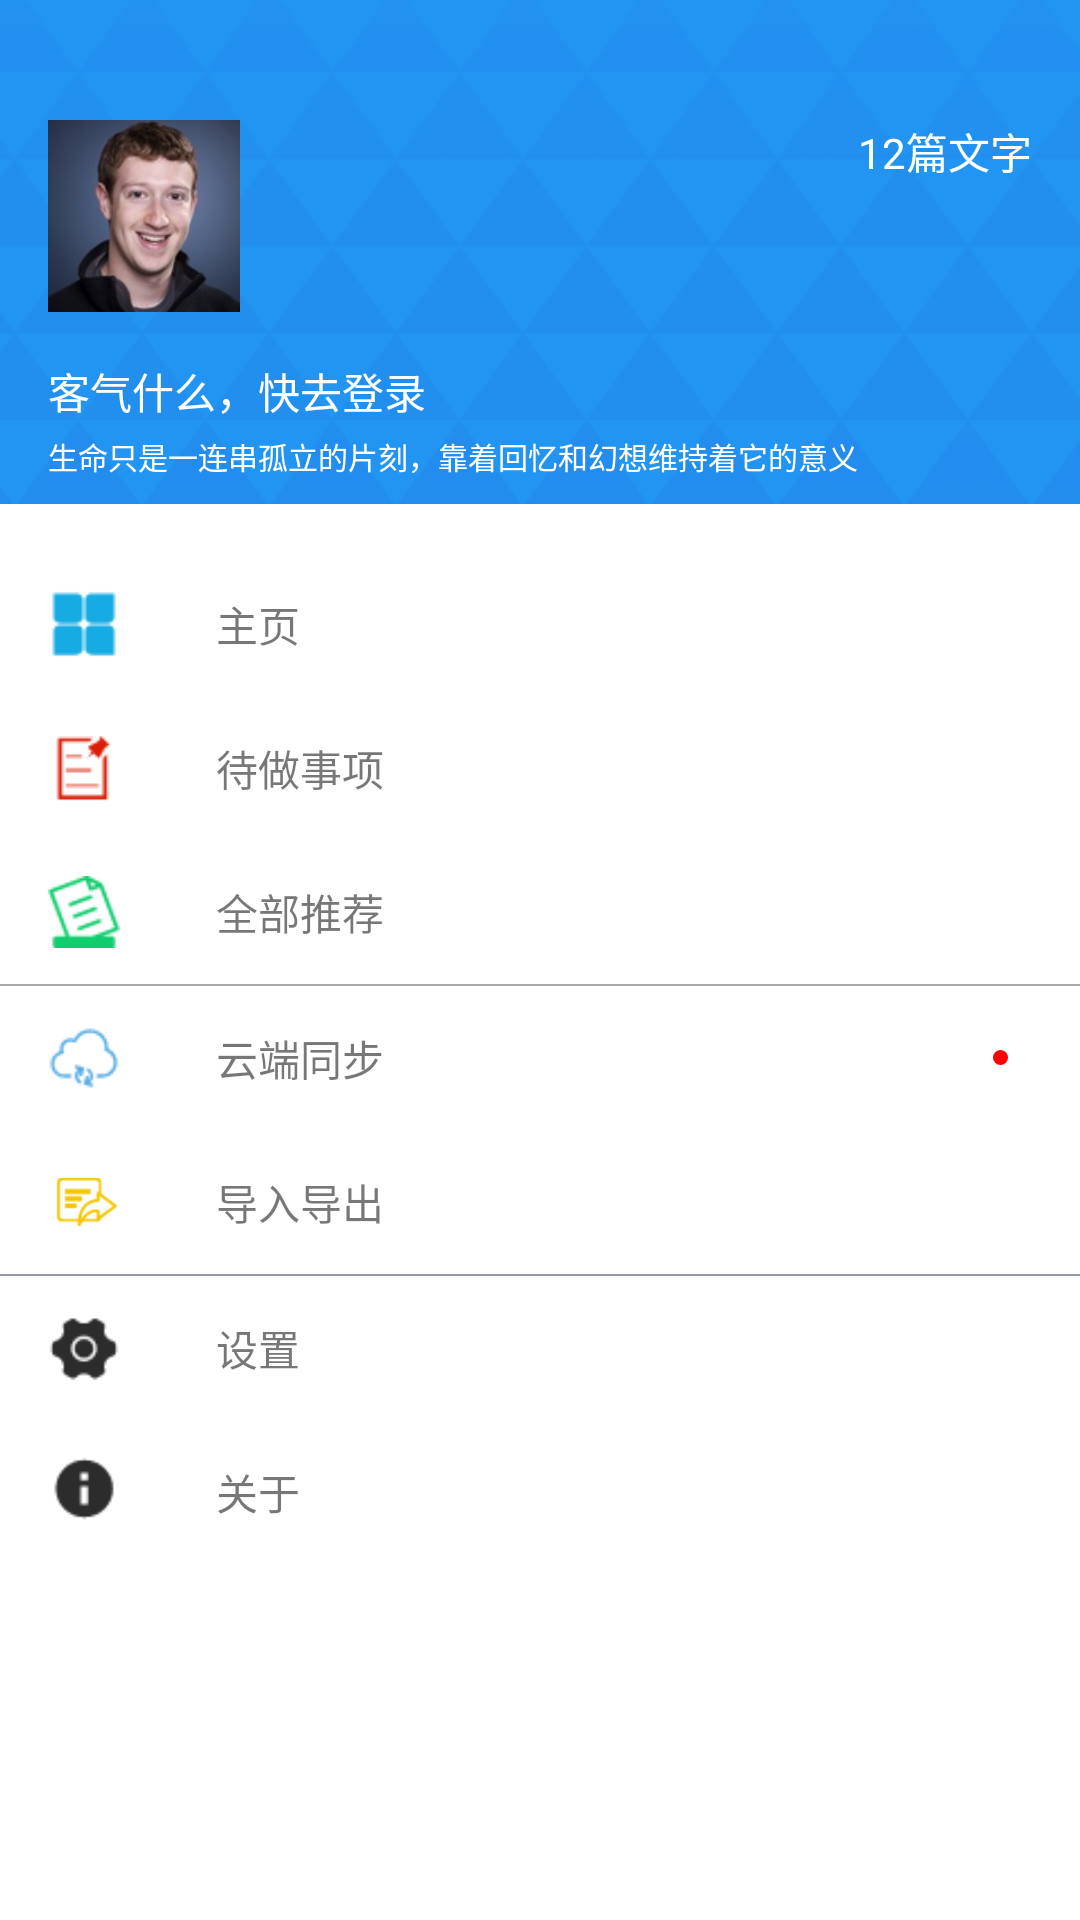

Where to tap for icons on this 1080px×1920px app screen, as (x,y):
about: (84,1488)
cloud backup: (84,1058)
draft: (84,912)
home page: (84,624)
local export: (87,1202)
reminder: (83,768)
setting: (84,1349)
